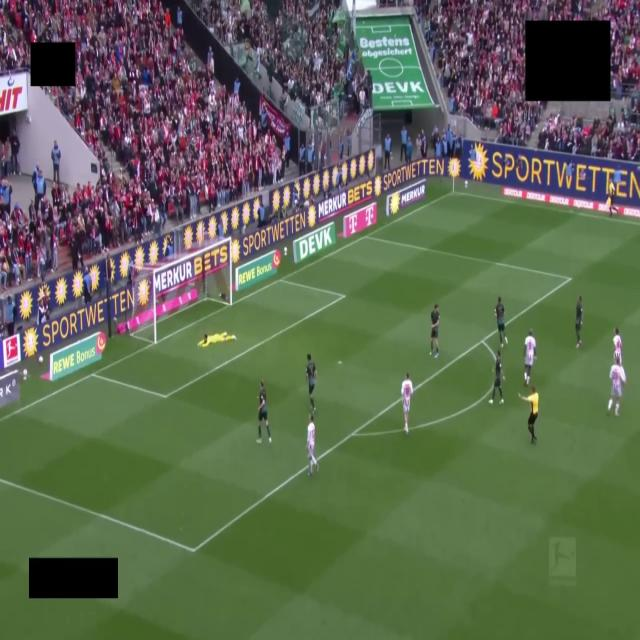player: (608, 360, 626, 416), (257, 381, 271, 444), (401, 372, 413, 434), (489, 351, 503, 404), (307, 414, 318, 476), (524, 330, 536, 384), (495, 296, 507, 347), (306, 354, 316, 413), (198, 332, 236, 347), (430, 304, 439, 357), (575, 296, 582, 348), (613, 328, 622, 365)
referee: (520, 386, 538, 443)
